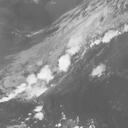cyclone: (34, 40, 76, 86)
